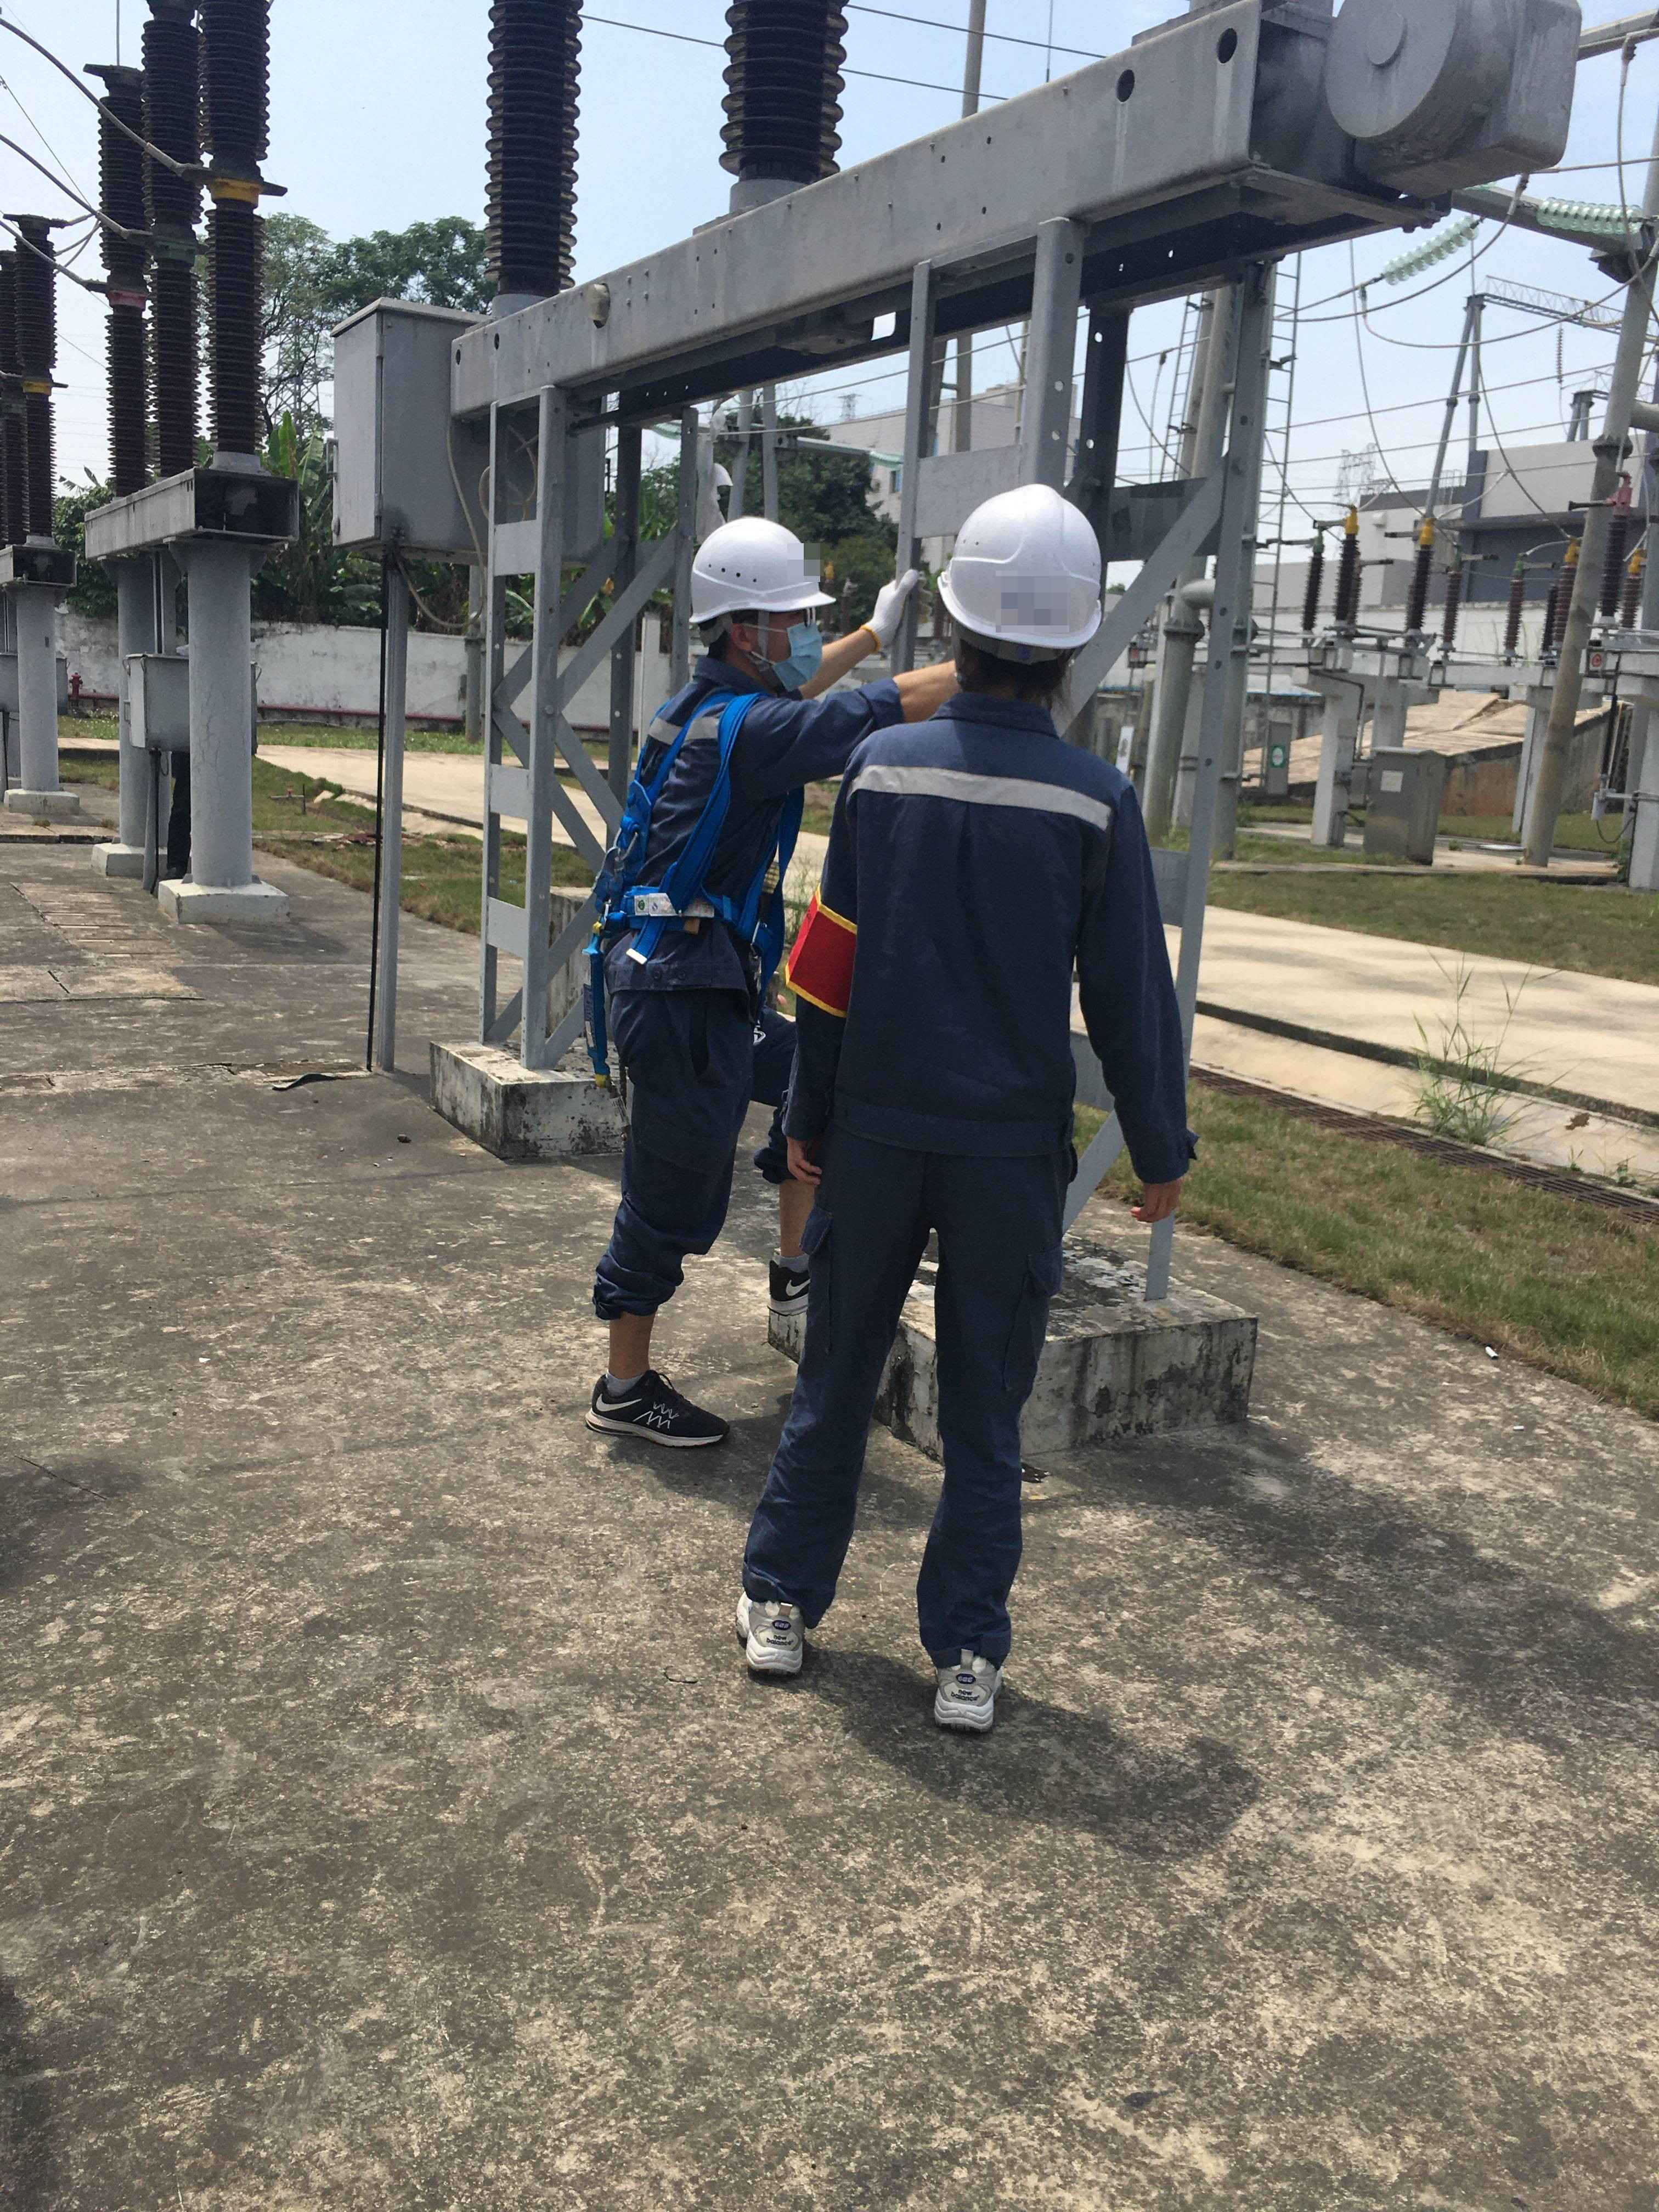downsuit: (748, 1191, 1077, 1648), (582, 1001, 742, 1324)
upsuit: (765, 702, 1190, 1163), (606, 676, 824, 963)
wrongbottom: (592, 1266, 674, 1385)
wrongtop: (802, 622, 889, 695)
